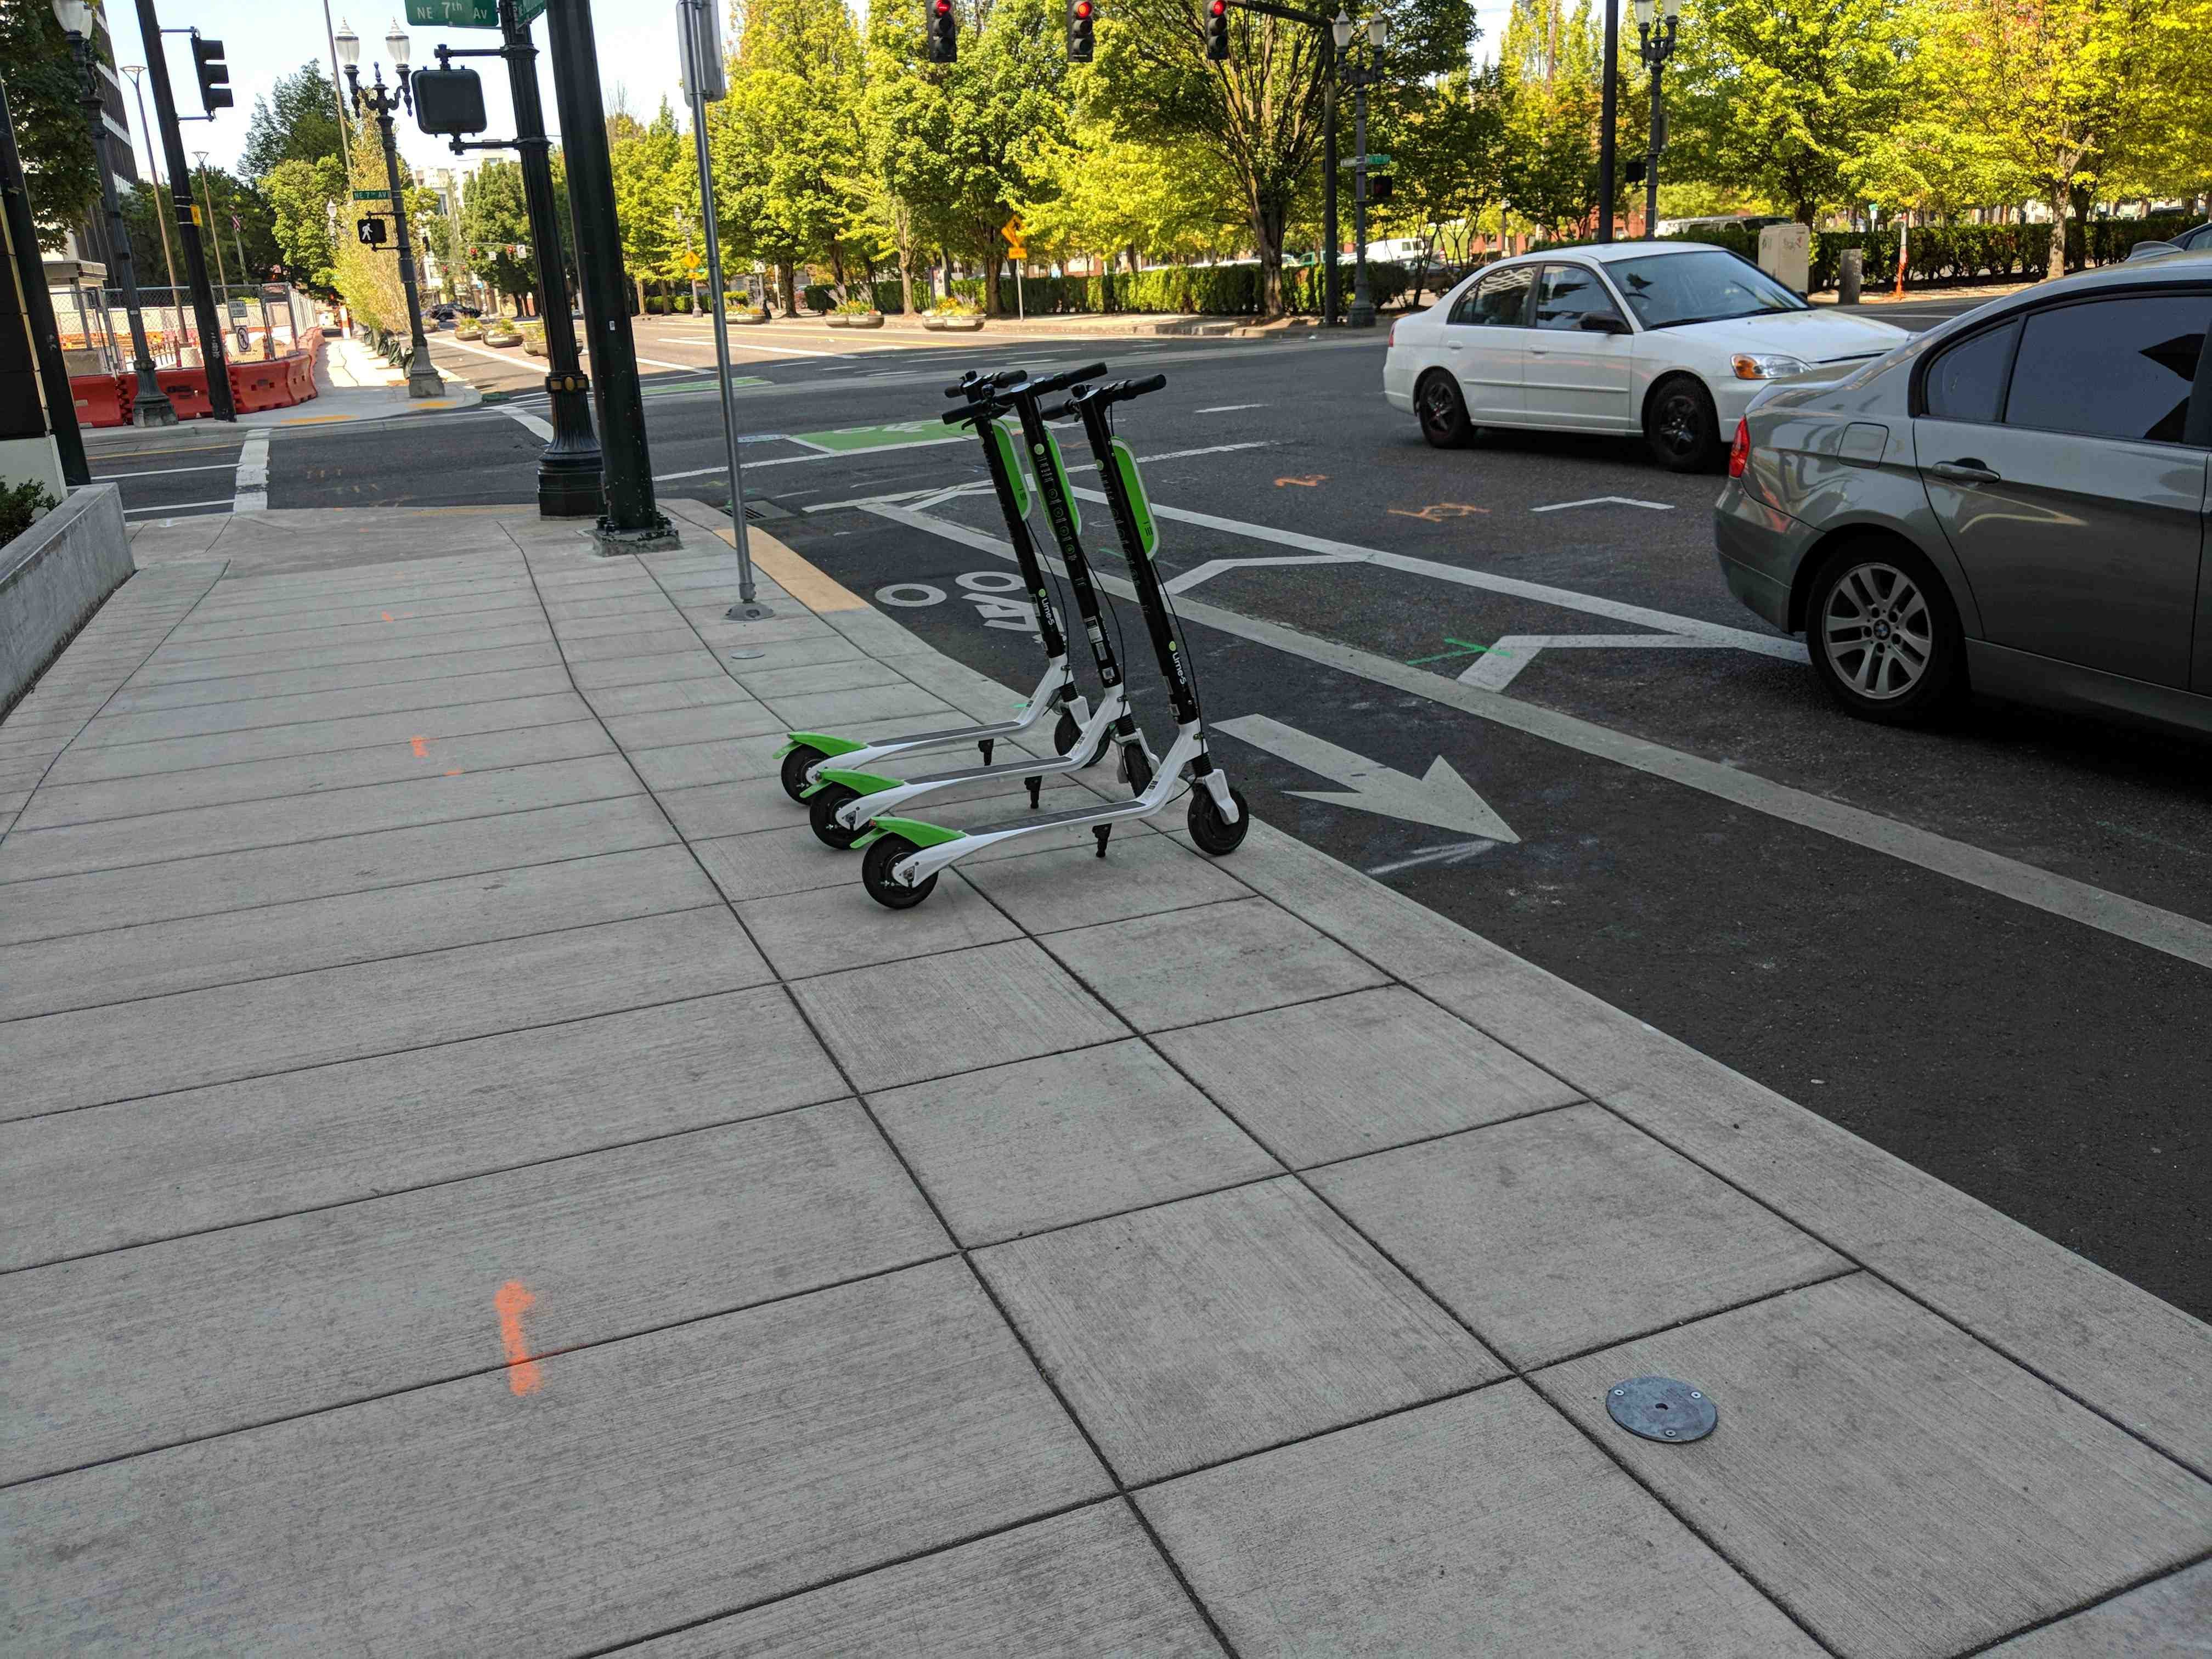scooter: (806, 366, 1211, 913)
